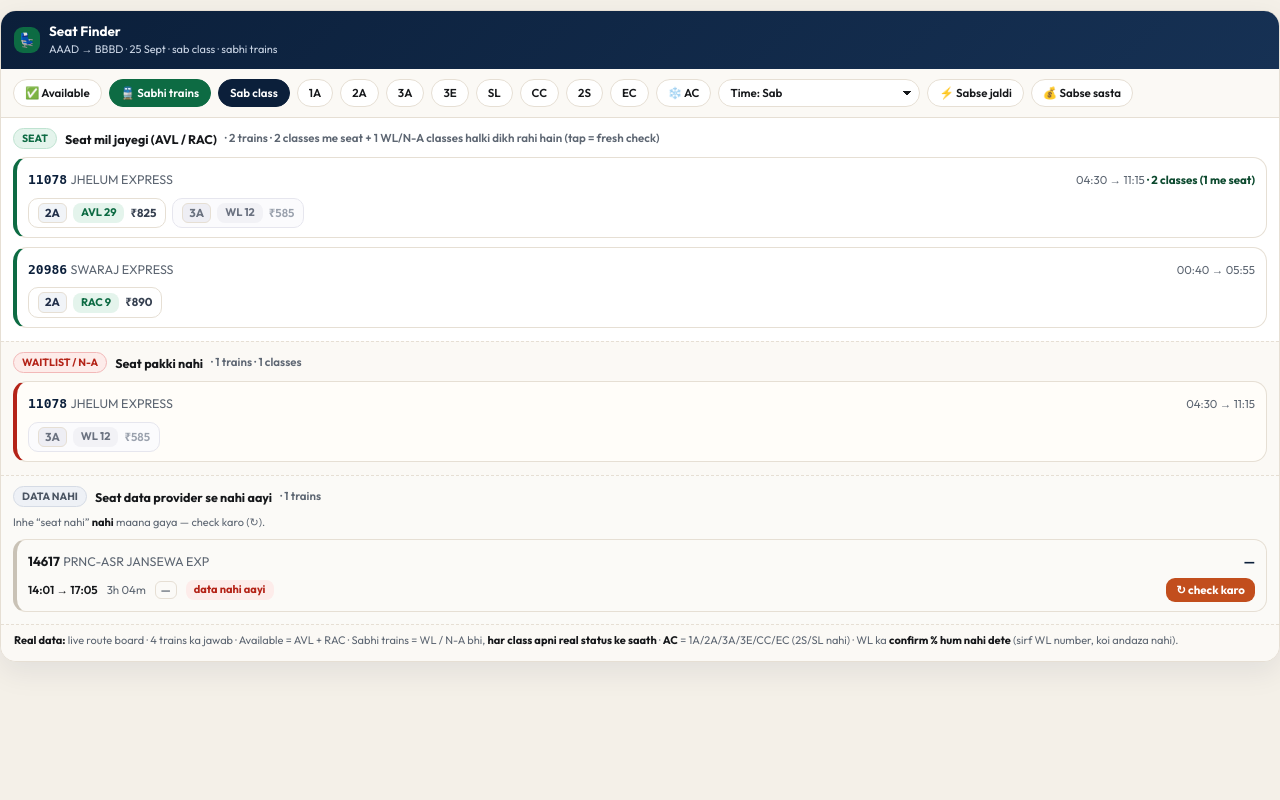
Test: Seat Finder card (jsdom) › class chip (2A) sirf us class ki rows dikhata hai — 3A WL row hat jati hai
Expected: the text "WL 12" below "Seat mil jayegi (AVL / RAC)" is shown, x1=217 y1=203 x2=263 y2=223
Click the button "2A".
click(360, 93)  # box x1=340 y1=78 x2=379 y2=107
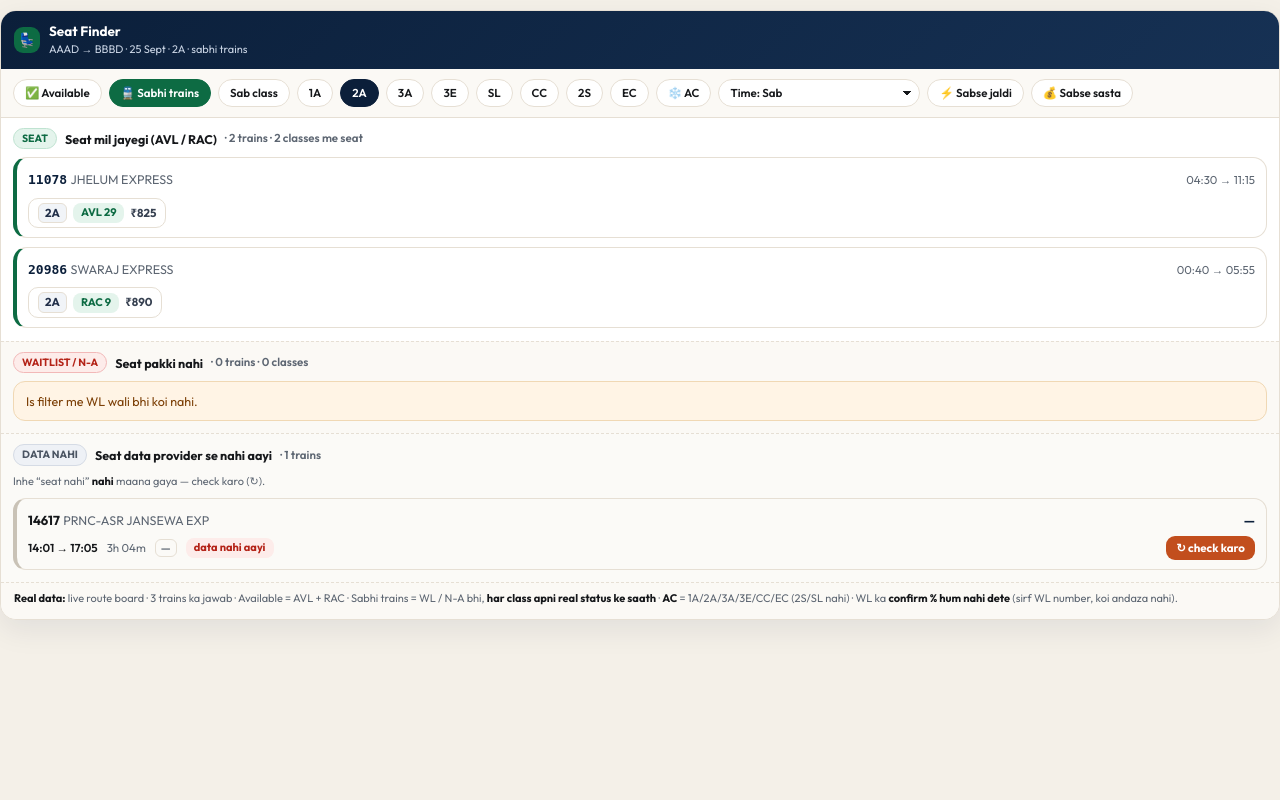
Expected: the text "AVL 29" is shown, x1=73 y1=203 x2=124 y2=223
Expected: the button "WL 12" is gone
